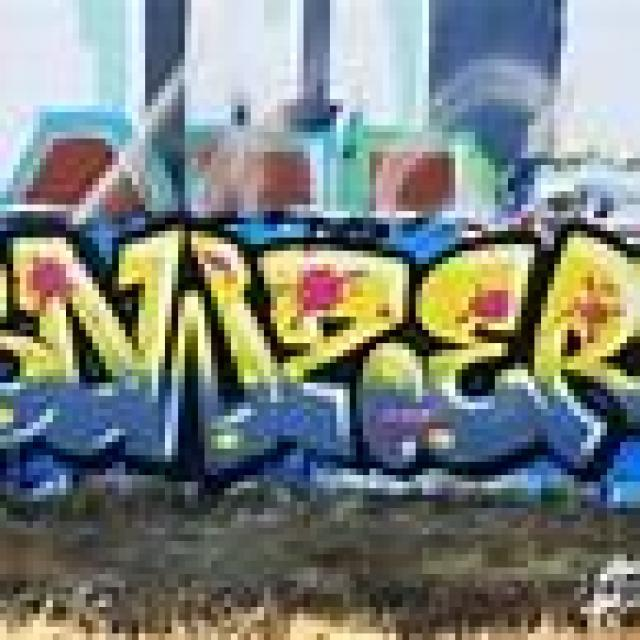nonspitting: (0, 211, 640, 499), (0, 105, 640, 208)
